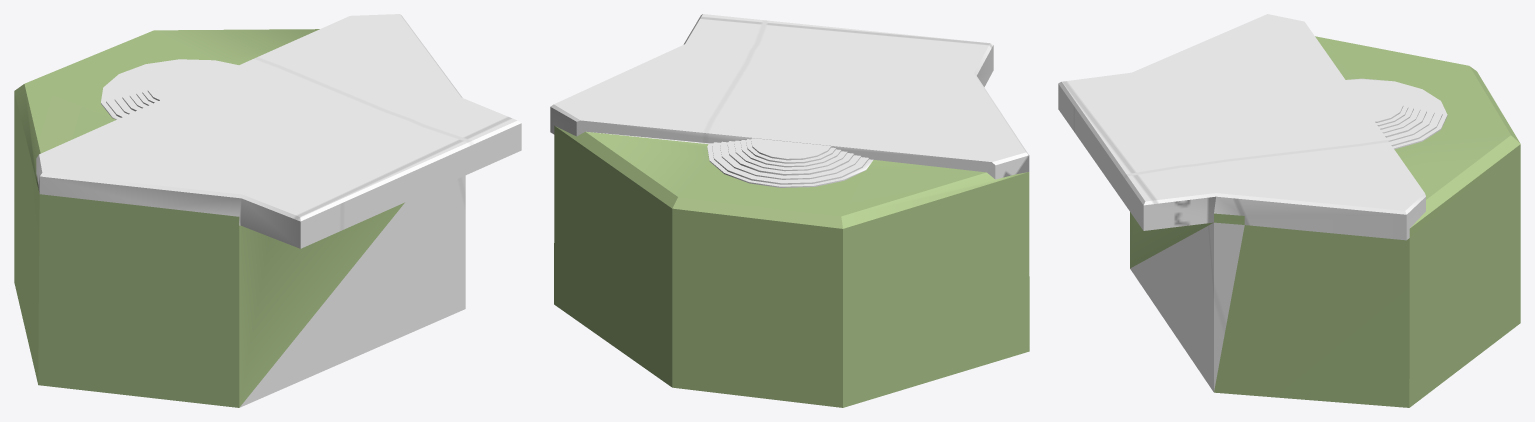
Rendered from Platform_Bell_steps_2.fbx.
3 renders of one model, left to right at view 1: azimuth 30°, elevation 25°; view 2: azimuth 150°, elevation 25°; view 3: azimuth 270°, elevation 25°, orthographic. The views are drawn at different scales.
Parts seen in each view (by area): view 1: Platform_Bell_steps; view 2: Platform_Bell_steps; view 3: Platform_Bell_steps.
Part boxes in pixels (box(x1,y1,x2,y2)): Platform_Bell_steps: box(14, 14, 521, 407); Platform_Bell_steps: box(550, 14, 1029, 407); Platform_Bell_steps: box(1058, 14, 1520, 407).
Bounding box in the file's own units: 45.8 × 21.15 × 44.75.
Materials: 3 (2 with a texture image).
